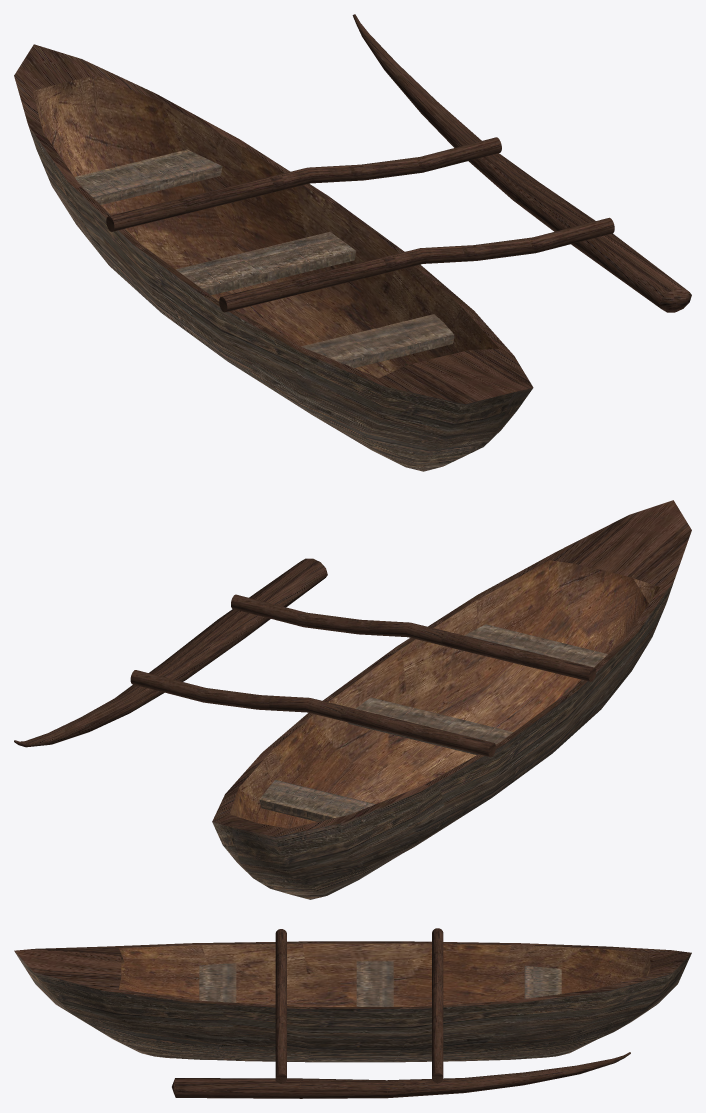
The model's file is RiggerBoat.fbx.
The picture shows the model from 3 angles, top to bottom: view 1: azimuth 30°, elevation 25°; view 2: azimuth 150°, elevation 25°; view 3: azimuth 270°, elevation 25°; orthographic projection. The views are drawn at different scales.
Parts seen in each view (by area): view 1: Boat001; view 2: Boat001; view 3: Boat001.
Part boxes in pixels (bbox=[...]): Boat001: bbox=[14, 14, 691, 471]; Boat001: bbox=[14, 500, 691, 899]; Boat001: bbox=[14, 928, 691, 1098].
Size of the model in its own units: 62.07 by 23.12 by 130.
